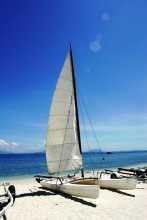fanchuan: (33, 43, 101, 193)
